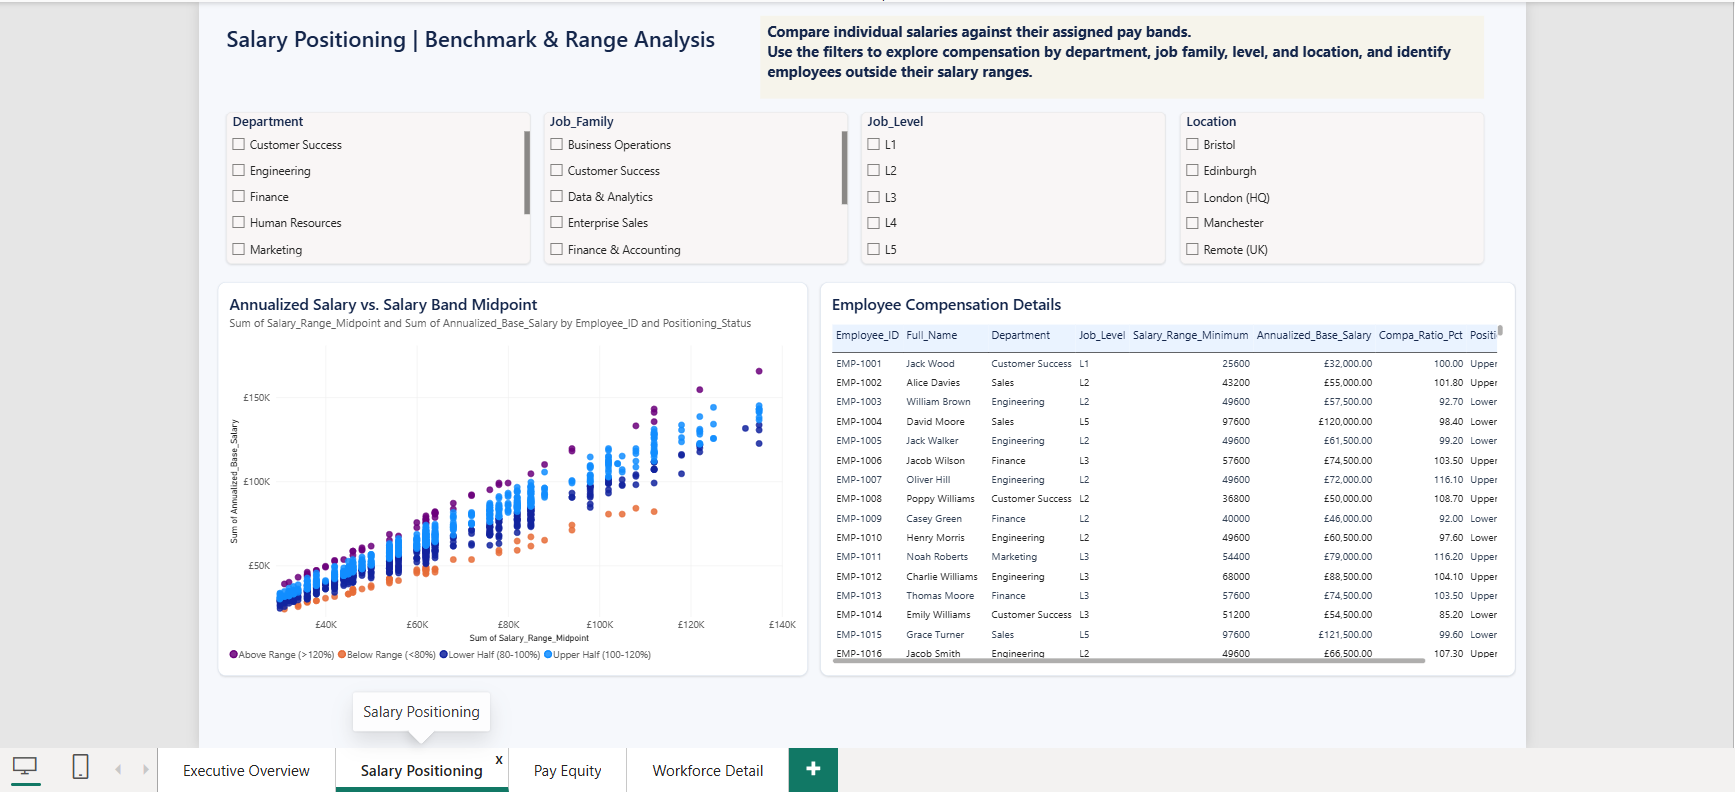

What the dashboard file says about the page in this screenshot:
{"tool":"powerbi","page":{"name":"Salary Positioning","canvas":[1920,1080],"ordinal":1},"visuals":[{"type":"slicer","fields":{"Values":["Dim_Department.Department"]},"box":[40,160,440,220],"z":0},{"type":"slicer","fields":{"Values":["Fact_Compensation.Job_Family"]},"box":[500,160,440,220],"z":1000},{"type":"slicer","fields":{"Values":["Fact_Compensation.Job_Level"]},"box":[960,160,440,220],"z":2000},{"type":"slicer","fields":{"Values":["Dim_Location.Location"]},"box":[1420,160,440,220],"z":3000},{"type":"scatterChart","title":"Annualized Salary vs. Salary Band Midpoint","fields":{"Category":["Fact_Compensation.Employee_ID"],"Series":["Fact_Compensation.Positioning_Status"],"X":["Sum(Fact_Compensation.Salary_Range_Midpoint)"],"Y":["Sum(Fact_Compensation.Annualized_Base_Salary)"]},"box":[28,406,854,570],"z":4000},{"type":"tableEx","title":"Employee Compensation Details","fields":{"Values":["Fact_Compensation.Employee_ID","Fact_Compensation.Full_Name","Fact_Compensation.Department","Fact_Compensation.Job_Level","Fact_Compensation.Salary_Range_Minimum","Fact_Compensation.Annualized_Base_Salary","Fact_Compensation.Compa_Ratio_Pct","Fact_Compensation.Positioning_Status"]},"box":[900,406,1006,570],"z":5000},{"type":"textbox","box":[40,30,772,100],"z":6000},{"type":"textbox","box":[812,20,1048,120],"z":6001}]}

Visuals, with their boxes on the page's 1920x1080 design canvas (x1, y1, x2, y2). These are canvas units, not pixel positions in the 1735x792 screenshot, which may show the page scaled, cropped or inside an application window:
slicer - Dim_Department.Department: bbox=(40, 160, 480, 380)
slicer - Fact_Compensation.Job_Family: bbox=(500, 160, 940, 380)
slicer - Fact_Compensation.Job_Level: bbox=(960, 160, 1400, 380)
slicer - Dim_Location.Location: bbox=(1420, 160, 1860, 380)
"Annualized Salary vs. Salary Band Midpoint" scatterChart: bbox=(28, 406, 882, 976)
"Employee Compensation Details" tableEx: bbox=(900, 406, 1906, 976)
textbox: bbox=(40, 30, 812, 130)
textbox: bbox=(812, 20, 1860, 140)
